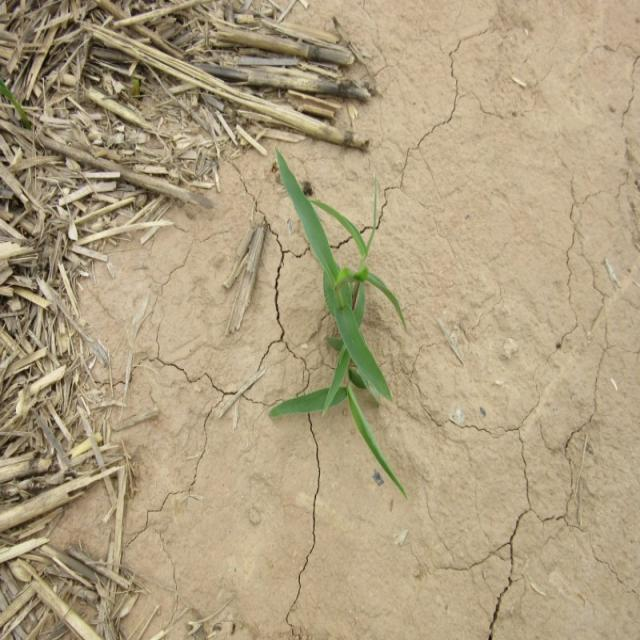bg: (266, 148, 416, 506)
